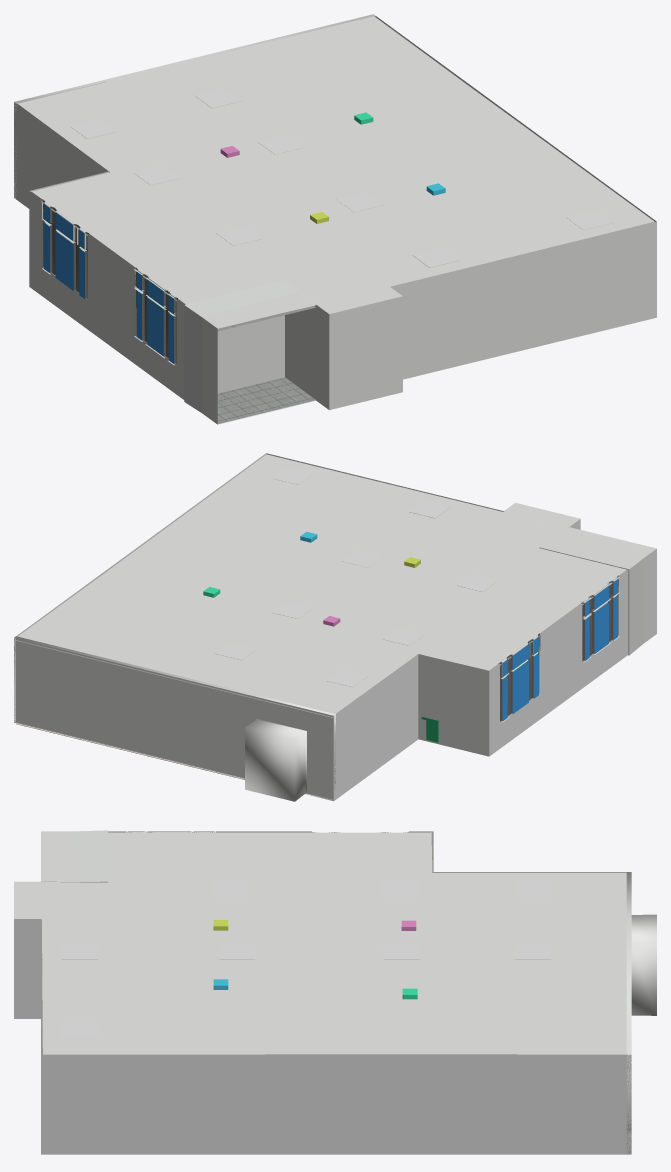
File: EscenarioFinal-POSTA.fbx
3 renders of one model, top to bottom at view 1: azimuth 30°, elevation 25°; view 2: azimuth 150°, elevation 25°; view 3: azimuth 270°, elevation 25°, orthographic. The views are drawn at different scales.
Visible parts, largest first — view 1: Cube.015, Cube.059, Cube.054, Cube.022; view 2: Cube.015, Cube.059, Cube.022, Cube.057; view 3: Cube.015, Cube.062, Cube.064, Cube.065, Cube.066, Cube.067, Cube.063, Cube.068, Cube.061.
Boxes of the visible parts, box(x1,y1,x2,y2) form: Cube.015: box(14, 14, 656, 424); Cube.059: box(42, 199, 89, 298); Cube.054: box(75, 290, 315, 423); Cube.022: box(135, 268, 177, 363); Cube.015: box(14, 453, 656, 801); Cube.059: box(498, 633, 539, 721); Cube.022: box(581, 575, 618, 661); Cube.057: box(14, 575, 620, 718); Cube.015: box(14, 830, 656, 1154); Cube.062: box(61, 944, 97, 959); Cube.064: box(383, 944, 419, 959); Cube.065: box(515, 944, 551, 959); Cube.066: box(515, 881, 551, 896); Cube.067: box(382, 881, 418, 896); Cube.063: box(219, 944, 255, 959); Cube.068: box(210, 881, 246, 896); Cube.061: box(61, 1023, 97, 1037).
Size of the model in its own units: 960 by 214 by 1165.
